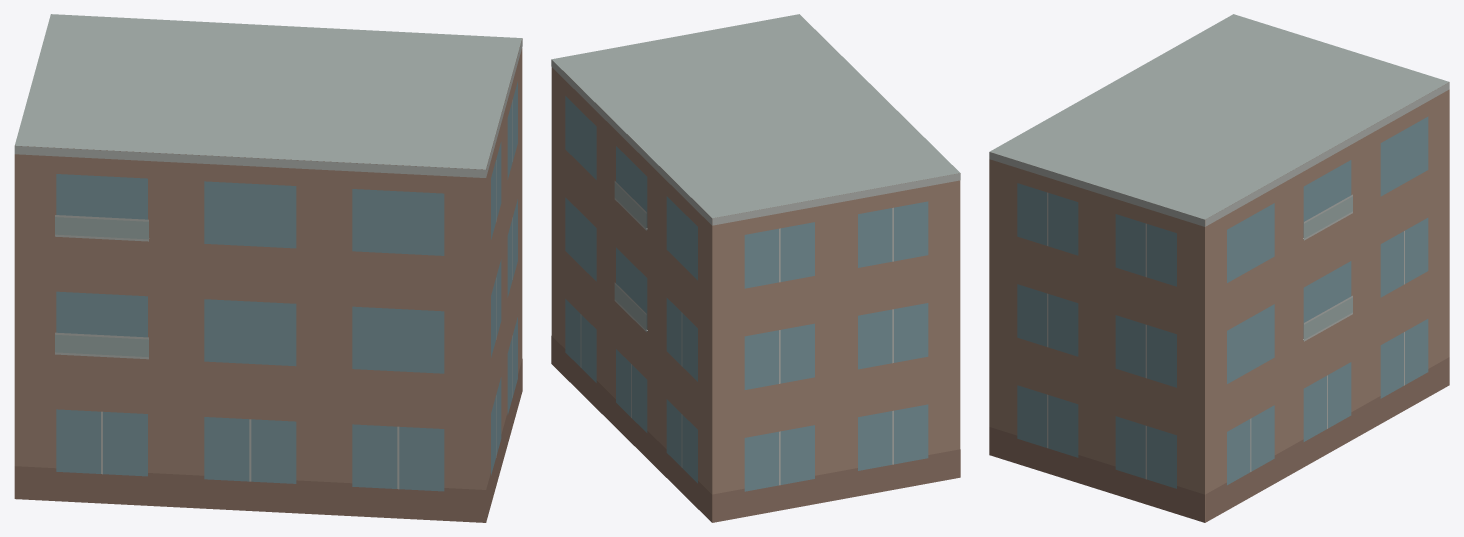
File: survey-upis-32802495.glb
3 renders of one model, left to right at view 1: azimuth 30°, elevation 25°; view 2: azimuth 150°, elevation 25°; view 3: azimuth 270°, elevation 25°, orthographic. The views are drawn at different scales.
Parts seen in each view (by area): view 1: survey-upis-32802495.tmp; view 2: survey-upis-32802495.tmp; view 3: survey-upis-32802495.tmp.
Boxes of the visible parts, box(x1,y1,x2,y2) form: survey-upis-32802495.tmp: box(14, 14, 522, 522); survey-upis-32802495.tmp: box(551, 14, 960, 522); survey-upis-32802495.tmp: box(989, 14, 1449, 522).
Bounding box in the file's own units: 14.7 × 10.1 × 13.91.
